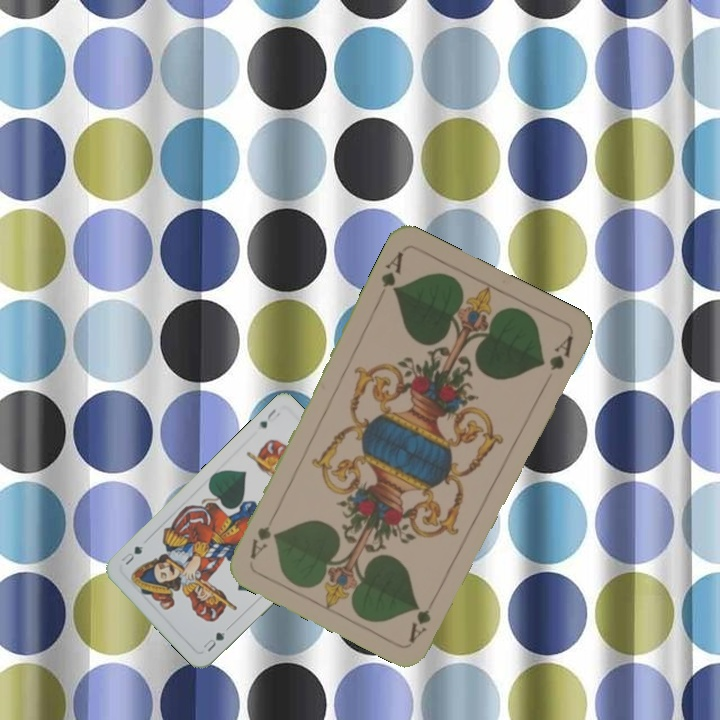GA: (405, 589, 438, 644), (376, 247, 406, 297)
GU: (199, 623, 232, 655), (254, 405, 283, 431)
